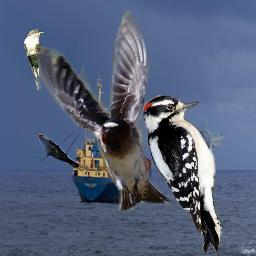Cuckoo: (34, 132, 79, 167), (24, 29, 44, 91)
Swallow: (36, 11, 172, 211)
Woodpecker: (143, 95, 223, 254)
